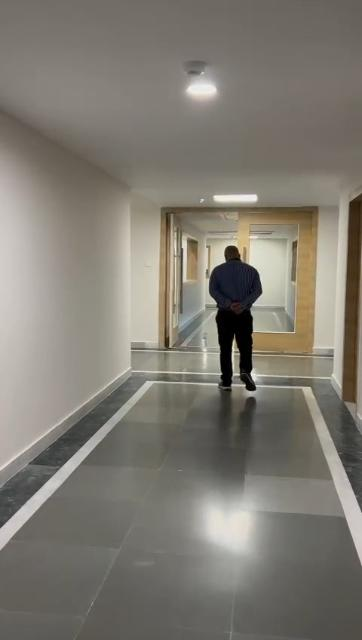floor: (0, 321, 362, 640)
moving-obj: (206, 249, 282, 385)
wall: (0, 109, 155, 468)
